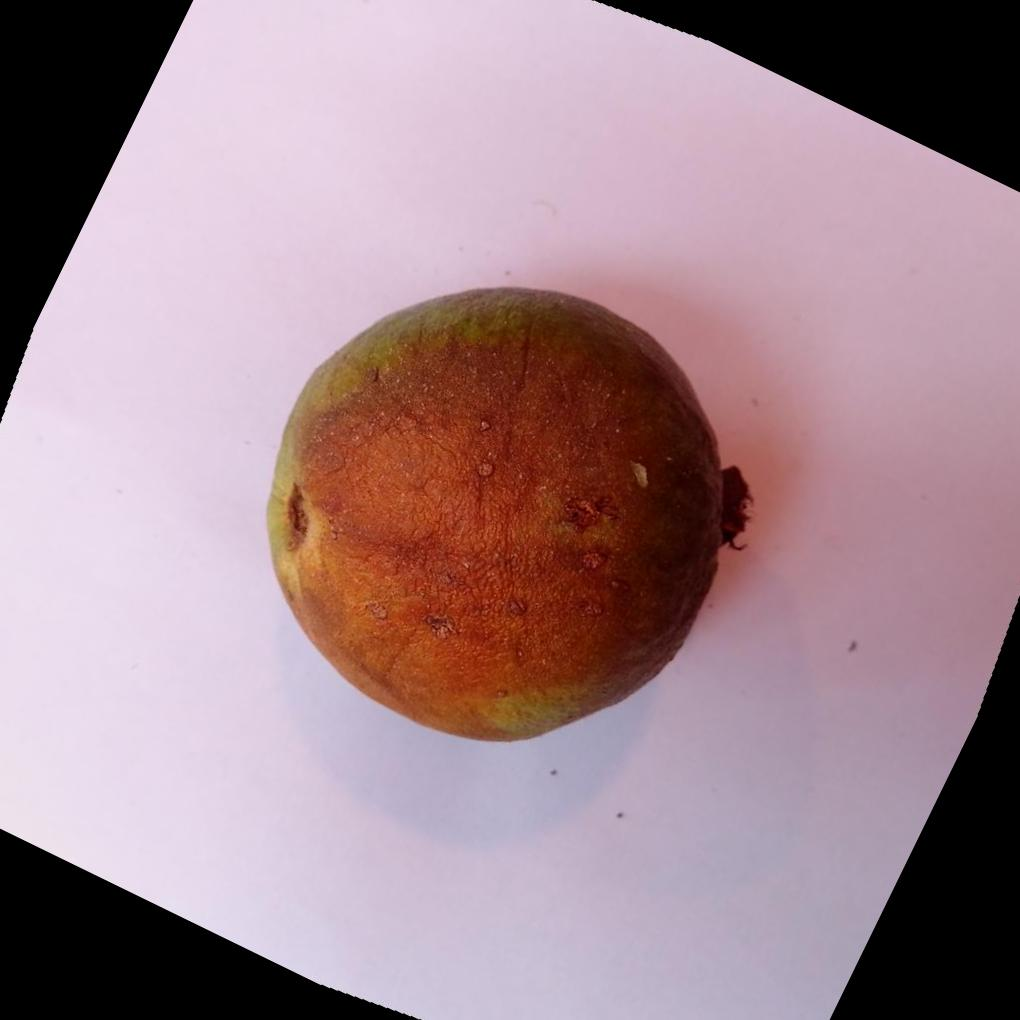FreshOrange: (264, 282, 745, 740)
